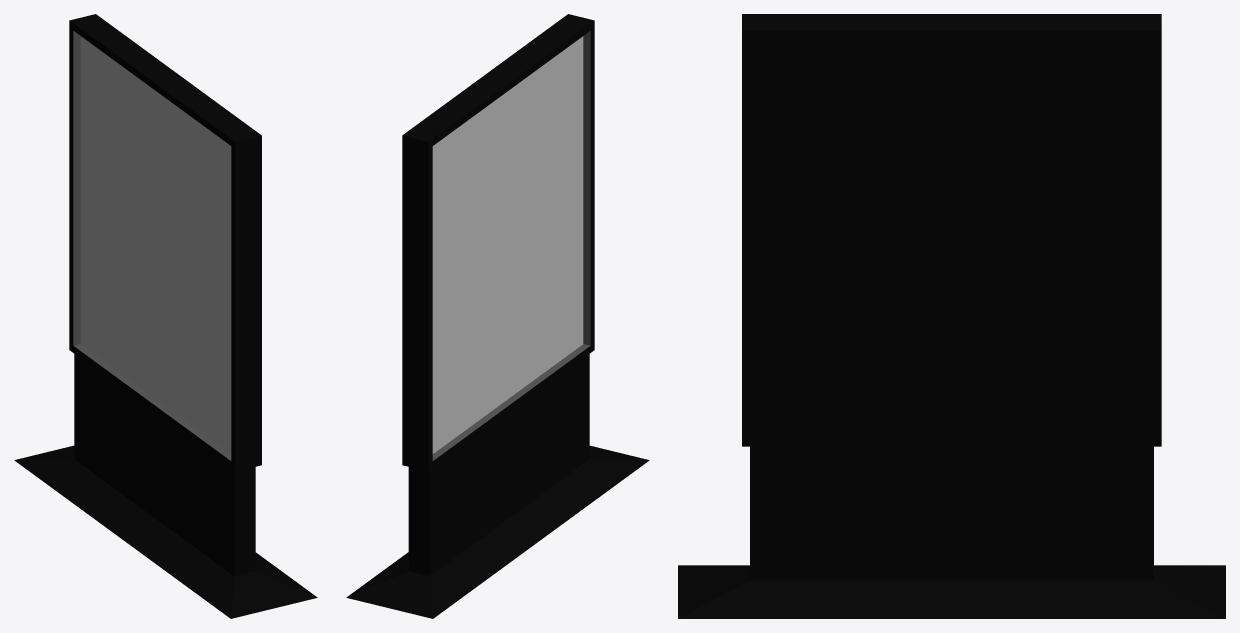
Rendered from display.obj.
3 renders of one model, left to right at view 1: azimuth 30°, elevation 25°; view 2: azimuth 150°, elevation 25°; view 3: azimuth 270°, elevation 25°, orthographic. The views are drawn at different scales.
Visible parts, largest first — view 1: Cube_Cube.001; view 2: Cube_Cube.001; view 3: Cube_Cube.001.
Boxes of the visible parts, bbox=[...] form: Cube_Cube.001: bbox=[14, 14, 317, 618]; Cube_Cube.001: bbox=[346, 14, 649, 618]; Cube_Cube.001: bbox=[678, 14, 1225, 618].
Size of the model in its own units: 1.67 by 8.28 by 7.22.
2 materials, 1 textured.
